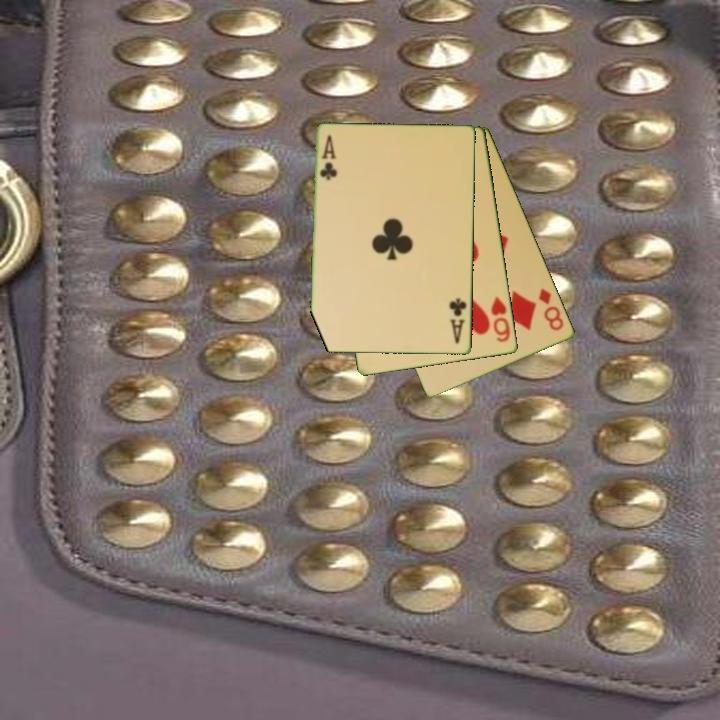6h: (488, 293, 513, 345)
8d: (535, 285, 567, 334)
Ac: (446, 295, 470, 347), (317, 131, 339, 183)
